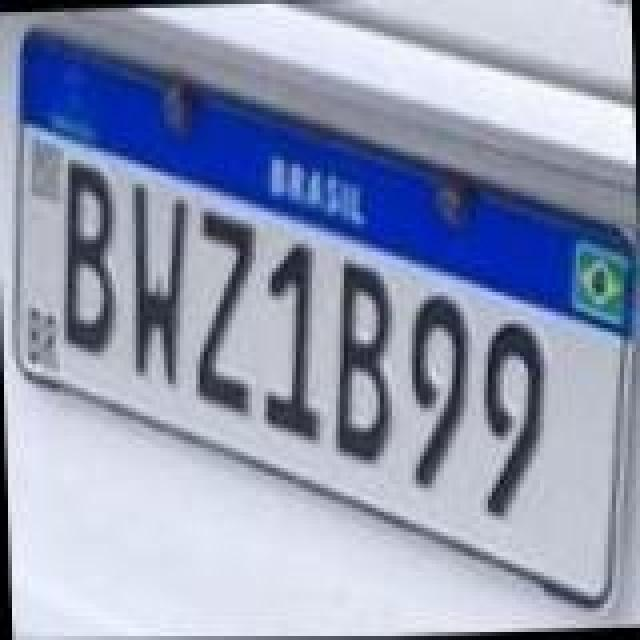1: (328, 252, 404, 468), (252, 240, 324, 448)
9: (476, 320, 556, 524), (400, 284, 476, 488)
B: (50, 154, 122, 358)
W: (126, 180, 198, 392)
Z: (186, 206, 262, 422)
